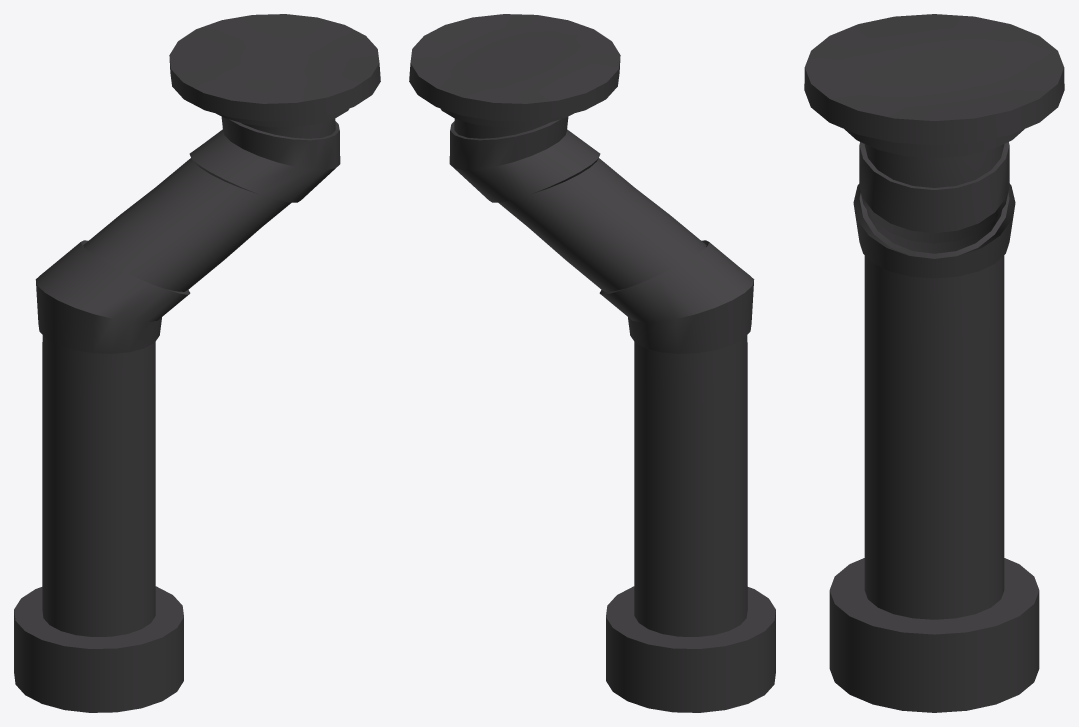
The model's file is stovepipe.fbx.
3 renders of one model, left to right at view 1: azimuth 30°, elevation 25°; view 2: azimuth 150°, elevation 25°; view 3: azimuth 270°, elevation 25°, orthographic. The views are drawn at different scales.
Visible parts, largest first — view 1: pCylinder7; view 2: pCylinder7; view 3: pCylinder7.
Part boxes in pixels (x1,y1,x2,y2): pCylinder7: (14,14,380,712); pCylinder7: (409,14,775,712); pCylinder7: (804,14,1064,712).
Size of the model in its own units: 139 by 224 by 74.5.
